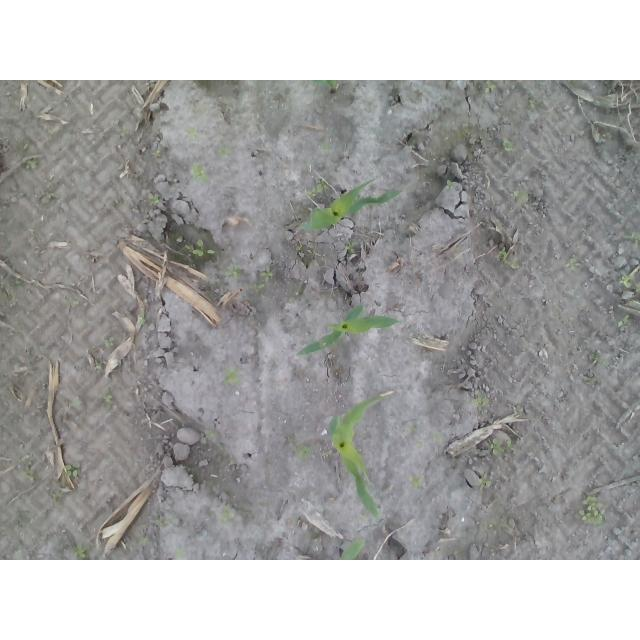Maize: (327, 394, 385, 523), (294, 301, 401, 356), (301, 176, 403, 229), (339, 537, 367, 560), (306, 80, 338, 93)
Weeds: (574, 492, 604, 525), (249, 265, 273, 297), (184, 238, 216, 257), (498, 248, 522, 270), (488, 438, 512, 458), (190, 162, 210, 182), (619, 274, 640, 293), (218, 504, 235, 527), (471, 390, 490, 410), (224, 366, 241, 386), (72, 542, 89, 560), (216, 142, 232, 160), (408, 472, 425, 488), (304, 183, 322, 198), (510, 190, 530, 203), (478, 473, 496, 487), (64, 463, 80, 478), (200, 431, 216, 446), (40, 190, 58, 203), (224, 264, 241, 277), (295, 444, 312, 457), (147, 191, 161, 206), (51, 489, 68, 501), (482, 80, 497, 93), (629, 231, 640, 248), (617, 314, 631, 327), (500, 137, 513, 151), (103, 394, 114, 409), (21, 471, 36, 482), (188, 128, 200, 141), (25, 159, 39, 170), (345, 242, 357, 254), (527, 97, 537, 111), (432, 432, 447, 441), (568, 257, 577, 272), (103, 336, 114, 348), (406, 423, 418, 434), (175, 548, 186, 560), (319, 144, 329, 153), (151, 150, 161, 159), (95, 360, 104, 369), (137, 314, 144, 325), (446, 180, 454, 189), (296, 246, 301, 251)
